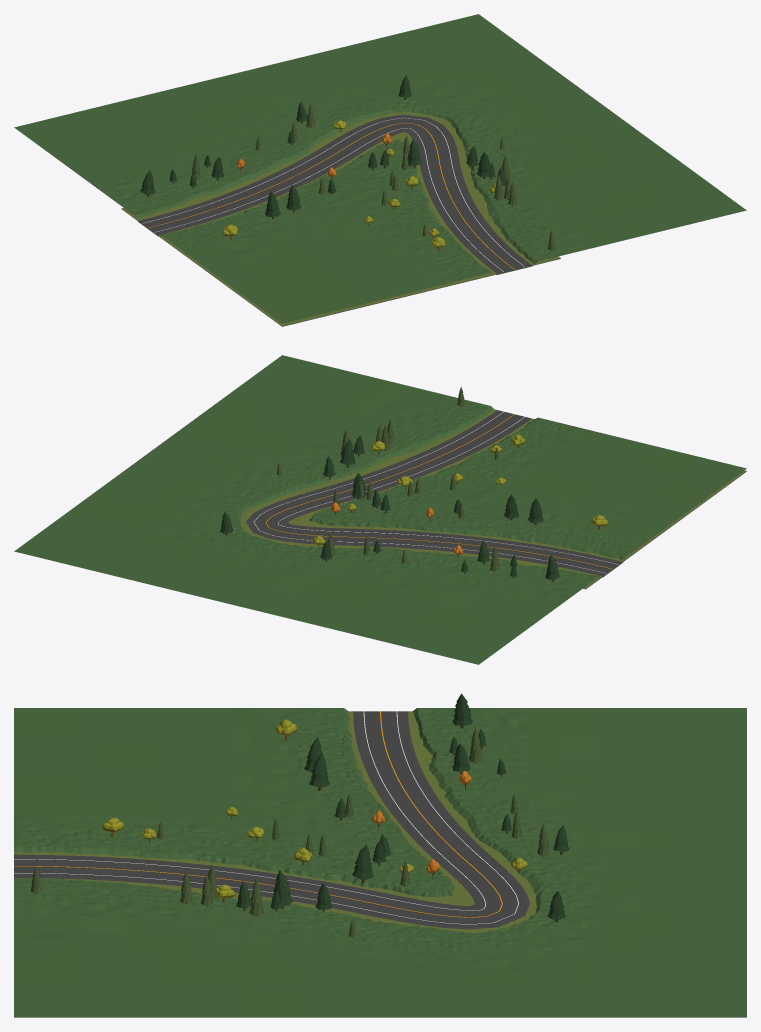
Rendered from ForestRoadRight6.fbx.
The picture shows the model from 3 angles, top to bottom: view 1: azimuth 30°, elevation 25°; view 2: azimuth 150°, elevation 25°; view 3: azimuth 270°, elevation 25°; orthographic projection. The views are drawn at different scales.
Visible parts, largest first — view 1: FRR6Plane, FRR6Road; view 2: FRR6Plane, FRR6Road; view 3: FRR6Plane, FRR6Road.
Part boxes in pixels (x1,y1,x2,y2): FRR6Plane: (14, 14, 746, 323); FRR6Road: (121, 112, 560, 326); FRR6Plane: (14, 355, 746, 664); FRR6Road: (240, 409, 746, 589); FRR6Plane: (14, 708, 746, 1017); FRR6Road: (14, 711, 537, 932).
Size of what is drawn, in the model's own units: 40000 by 2616 by 40000.
